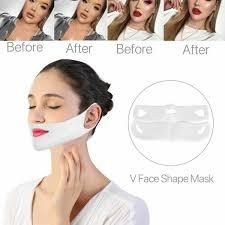Wore Mask Incorrectly: (22, 54, 115, 152)
